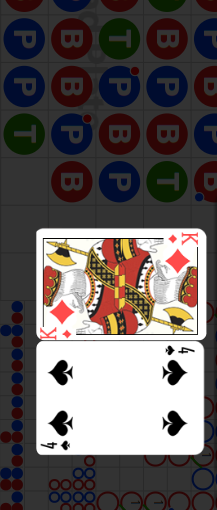4S: (41, 438, 74, 451)
KD: (167, 230, 201, 245)
